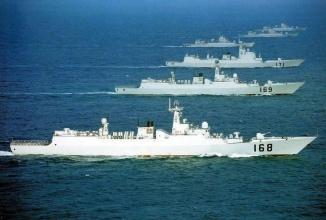warship: (7, 115, 321, 154), (112, 67, 307, 97), (159, 46, 307, 70), (182, 35, 257, 49), (239, 26, 299, 39), (274, 22, 309, 31)
